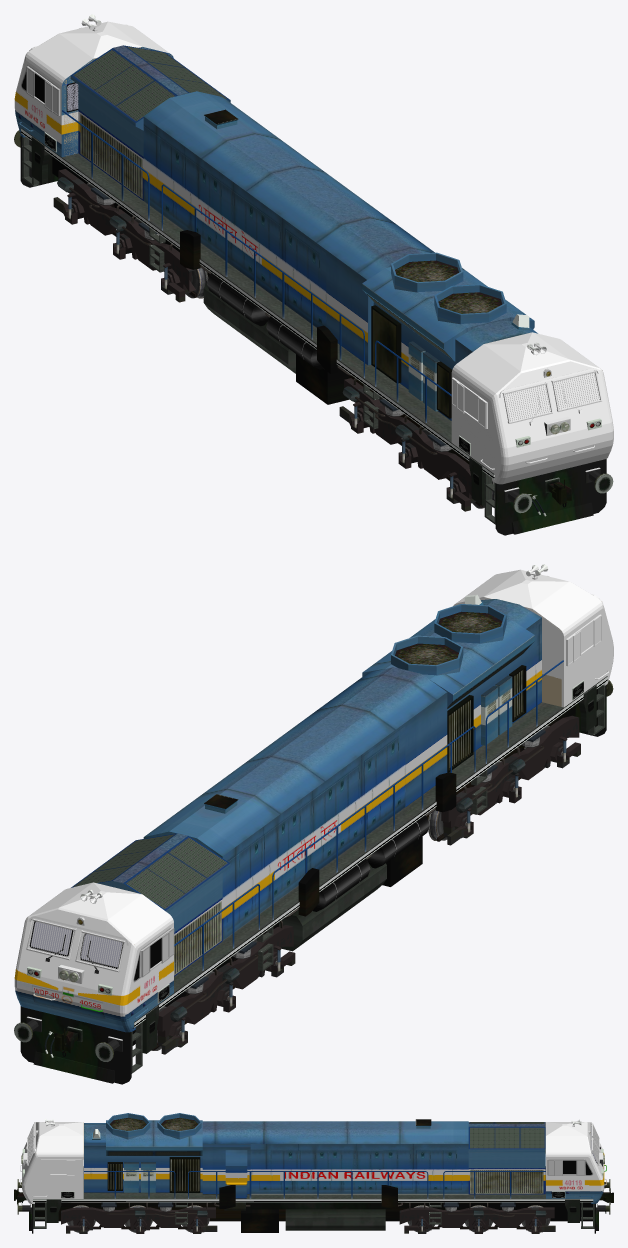
Rendered from loco_wdp4d_gw_1.glb.
3 renders of one model, top to bottom at view 1: azimuth 30°, elevation 25°; view 2: azimuth 150°, elevation 25°; view 3: azimuth 270°, elevation 25°, orthographic. The views are drawn at different scales.
Parts seen in each view (by area): view 1: wdp4d_gw_1__wdp4d_gd.glb; view 2: wdp4d_gw_1__wdp4d_gd.glb; view 3: wdp4d_gw_1__wdp4d_gd.glb.
Part boxes in pixels (x1,y1,x2,y2): wdp4d_gw_1__wdp4d_gd.glb: [14, 14, 613, 535]; wdp4d_gw_1__wdp4d_gd.glb: [14, 564, 613, 1084]; wdp4d_gw_1__wdp4d_gd.glb: [14, 1113, 613, 1233].
Bounding box in the file's own units: 3.18 × 4.27 × 22.19.
9 materials, 8 textured.
